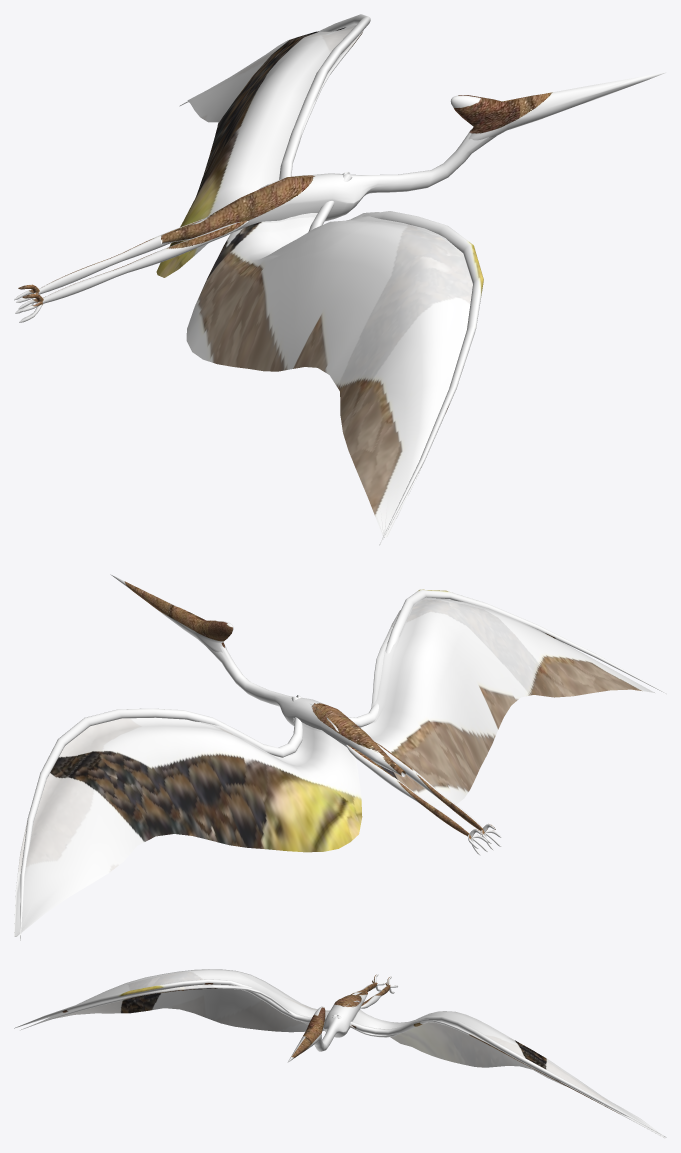
The model's file is KS_pterosaur.obj.
3 renders of one model, top to bottom at view 1: azimuth 30°, elevation 25°; view 2: azimuth 150°, elevation 25°; view 3: azimuth 270°, elevation 25°, orthographic. The views are drawn at different scales.
Visible parts, largest first — view 1: Loft02_1_1, Default_1_1, Loft04_1_1, Loft01_1_1, Loft03_1_1; view 2: Loft04_1_1, Loft02_1_1, Default_1_1, Loft03_1_1, Loft01_1_1; view 3: Loft02_1_1, Loft04_1_1, Default_1_1, Loft03_1_1, Loft01_1_1.
Part boxes in pixels (x1=…): Loft02_1_1: x1=186, y1=174, x2=472, y2=537; Default_1_1: x1=14, y1=72, x2=665, y2=322; Loft04_1_1: x1=156, y1=24, x2=363, y2=277; Loft01_1_1: x1=308, y1=174, x2=483, y2=545; Loft03_1_1: x1=179, y1=14, x2=370, y2=179; Loft04_1_1: x1=14, y1=717, x2=362, y2=936; Loft02_1_1: x1=310, y1=597, x2=655, y2=805; Default_1_1: x1=110, y1=574, x2=501, y2=855; Loft03_1_1: x1=20, y1=696, x2=302, y2=940; Loft01_1_1: x1=296, y1=589, x2=666, y2=727; Loft02_1_1: x1=20, y1=969, x2=359, y2=1032; Loft04_1_1: x1=349, y1=1009, x2=665, y2=1138; Default_1_1: x1=287, y1=974, x2=397, y2=1062; Loft03_1_1: x1=337, y1=1015, x2=666, y2=1137; Loft01_1_1: x1=14, y1=979, x2=336, y2=1028.
Size of the model in its own units: 10.46 by 3.63 by 16.28.
Materials: 5 (5 with a texture image).
